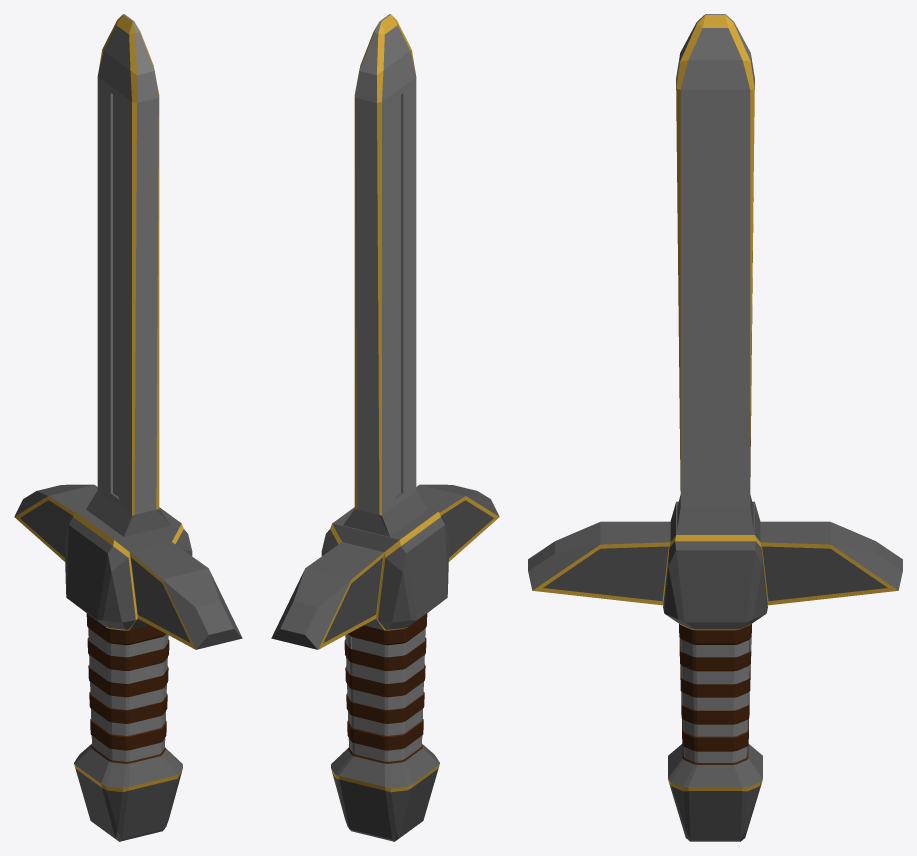
The model's file is sword1.fbx.
The picture shows the model from 3 angles, left to right: view 1: azimuth 30°, elevation 25°; view 2: azimuth 150°, elevation 25°; view 3: azimuth 270°, elevation 25°; orthographic projection.
Parts seen in each view (by area): view 1: Cube; view 2: Cube; view 3: Cube.
Part boxes in pixels (<box>): Cube: <box>14,14,242,841</box>; Cube: <box>271,14,499,841</box>; Cube: <box>528,14,902,841</box>.
Bounding box in the file's own units: 49.52 × 412 × 171.
